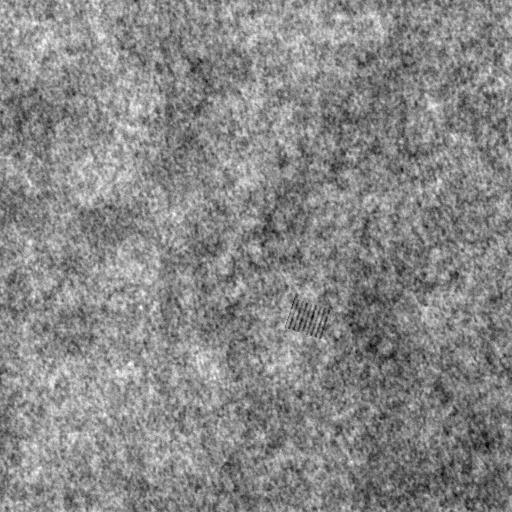DefectTypeB: (287, 296, 329, 337)
